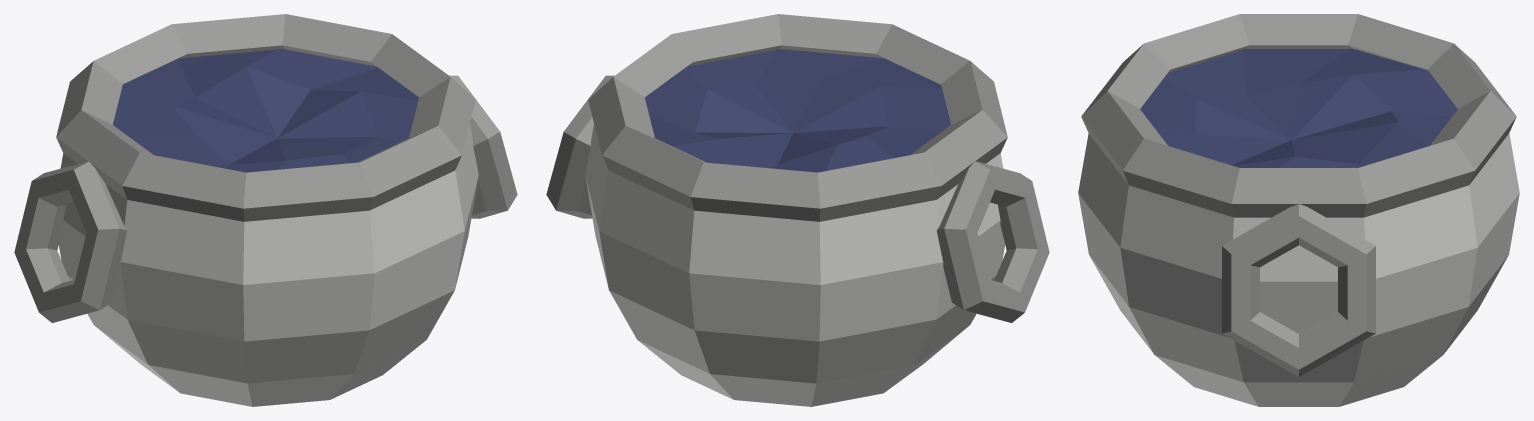
File: Cauldron_2_White.fbx
3 renders of one model, left to right at view 1: azimuth 30°, elevation 25°; view 2: azimuth 150°, elevation 25°; view 3: azimuth 270°, elevation 25°, orthographic.
Parts seen in each view (by area): view 1: Cauldron_2_White_Part_1, Cauldron_2_White_Part_2, Cauldron_2_White_Part_3; view 2: Cauldron_2_White_Part_1, Cauldron_2_White_Part_2, Cauldron_2_White_Part_3; view 3: Cauldron_2_White_Part_1, Cauldron_2_White_Part_2, Cauldron_2_White_Part_3.
Part boxes in pixels (bbox=[...]): Cauldron_2_White_Part_1: bbox=[58, 124, 478, 406]; Cauldron_2_White_Part_2: bbox=[14, 14, 517, 322]; Cauldron_2_White_Part_3: bbox=[113, 48, 418, 172]; Cauldron_2_White_Part_1: bbox=[585, 124, 1005, 406]; Cauldron_2_White_Part_2: bbox=[546, 14, 1049, 322]; Cauldron_2_White_Part_3: bbox=[645, 49, 950, 172]; Cauldron_2_White_Part_1: bbox=[1078, 133, 1519, 406]; Cauldron_2_White_Part_2: bbox=[1081, 14, 1516, 376]; Cauldron_2_White_Part_3: bbox=[1140, 49, 1457, 167].
Bounding box in the file's own units: 241 × 132 × 200.
